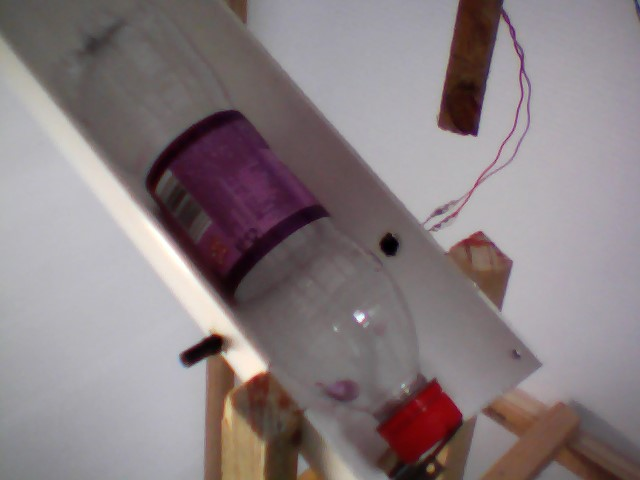plastico: (30, 1, 465, 454)
